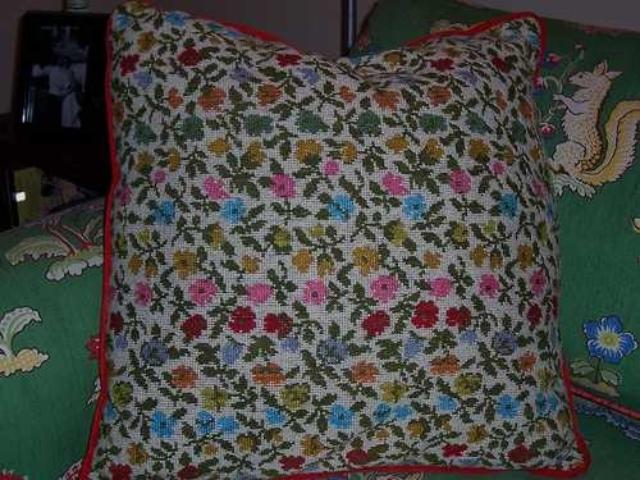pillow: (66, 0, 590, 478)
